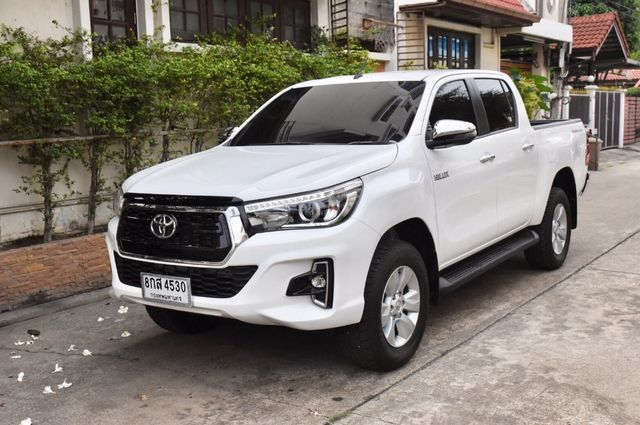pickup: (103, 68, 593, 370)
